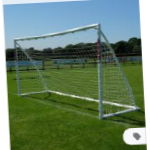goals: (13, 20, 139, 121)
